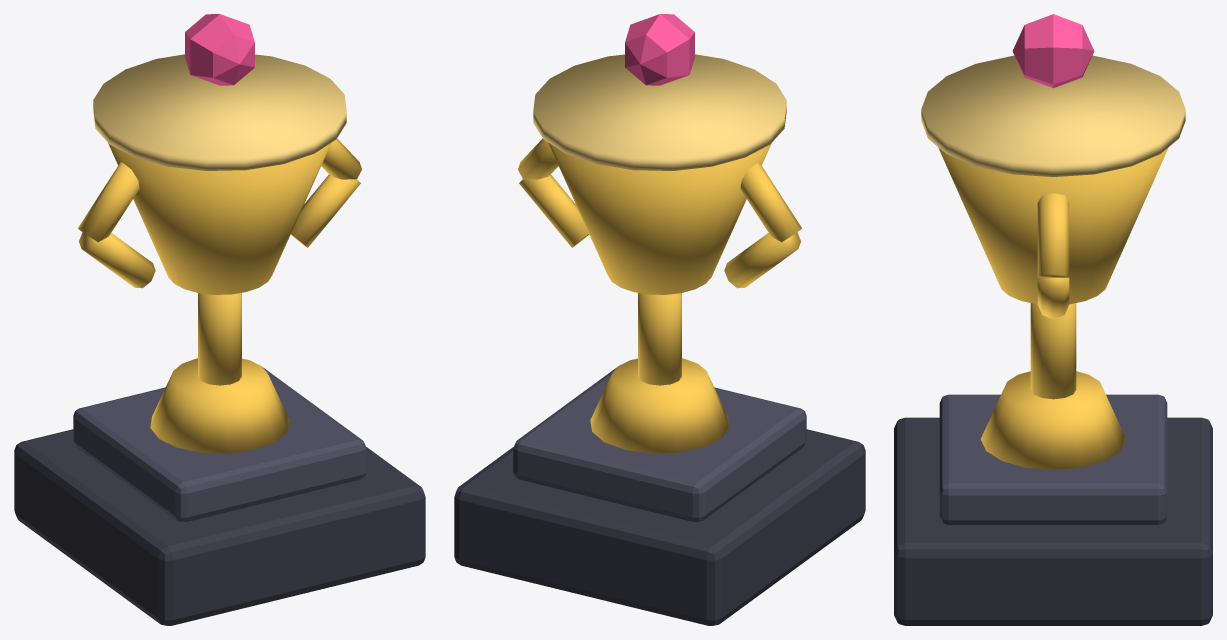
Rendered from TrophyStatue.fbx.
3 renders of one model, left to right at view 1: azimuth 30°, elevation 25°; view 2: azimuth 150°, elevation 25°; view 3: azimuth 270°, elevation 25°, orthographic. The views are drawn at different scales.
Visible parts, largest first — view 1: TrophyStatue; view 2: TrophyStatue; view 3: TrophyStatue.
Part boxes in pixels (x1=…): TrophyStatue: x1=14, y1=14, x2=425, y2=625; TrophyStatue: x1=454, y1=14, x2=865, y2=625; TrophyStatue: x1=894, y1=14, x2=1212, y2=625.
Bounding box in the file's own units: 7.35 × 13.3 × 7.
Materials: 1 (1 with a texture image).
